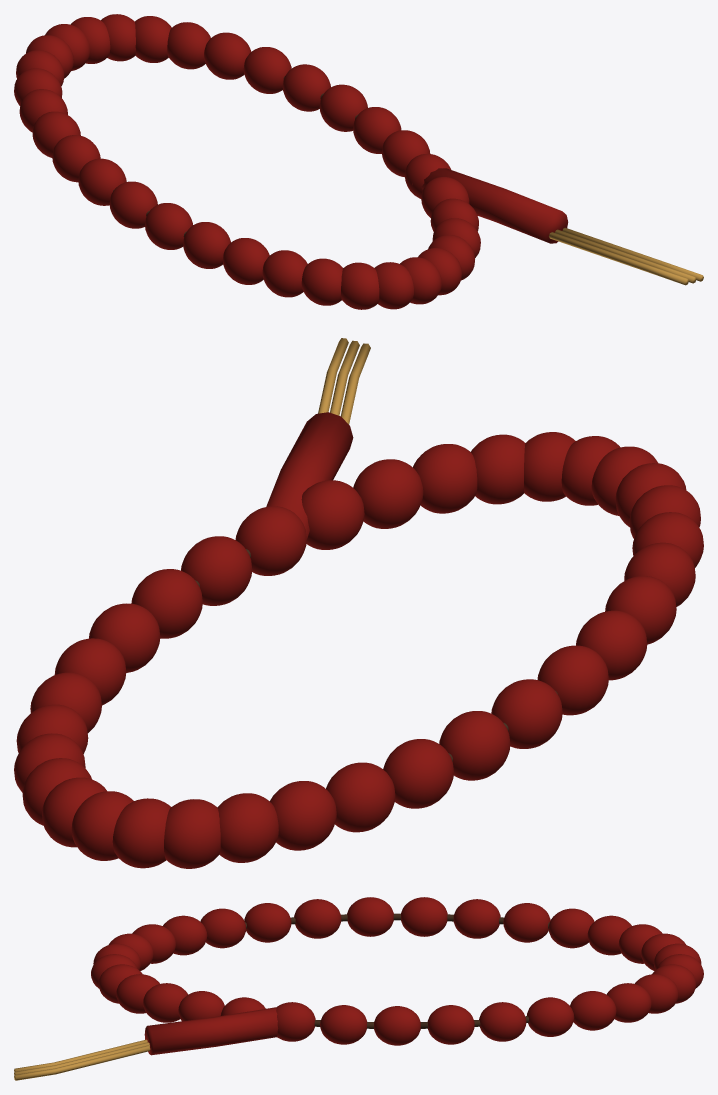
Rendered from cherry_tespih.glb.
3 views of the same model, one above another, from view 1: azimuth 30°, elevation 25°; view 2: azimuth 150°, elevation 25°; view 3: azimuth 270°, elevation 25° (orthographic). The views are drawn at different scales.
Visible parts, largest first — view 1: Imame, AmberBead_30, AmberBead_14, AmberBead_15, AmberBead_29, AmberBead_31, AmberBead_13, AmberBead_16, AmberBead_12, AmberBead_32, AmberBead_11, AmberBead_28 (+25 smaller); view 2: Imame, AmberBead_19, AmberBead_4, AmberBead_18, AmberBead_20, AmberBead_2, AmberBead_17, AmberBead_21, AmberBead_1, AmberBead_22, AmberBead_5, AmberBead_16 (+24 smaller); view 3: Imame, AmberBead_0, AmberBead_32, AmberBead_1, AmberBead_18, AmberBead_15, AmberBead_31, AmberBead_16, AmberBead_17, AmberBead_14, AmberBead_30, AmberBead_19 (+26 smaller).
Part boxes in pixels (x1,y1,x2,y2): Imame: (412, 168, 568, 243); AmberBead_30: (243, 47, 291, 93); AmberBead_14: (183, 222, 230, 268); AmberBead_15: (145, 203, 192, 249); AmberBead_29: (204, 32, 251, 79); AmberBead_31: (282, 64, 330, 111); AmberBead_13: (222, 238, 269, 284); AmberBead_16: (109, 181, 157, 228); AmberBead_12: (262, 250, 307, 297); AmberBead_32: (319, 84, 367, 131); AmberBead_11: (301, 258, 342, 305); AmberBead_28: (167, 22, 210, 69); Imame: (266, 412, 353, 546); AmberBead_19: (383, 739, 453, 808); AmberBead_4: (353, 459, 423, 528); AmberBead_18: (439, 711, 510, 780); AmberBead_20: (326, 762, 395, 832); AmberBead_2: (235, 506, 306, 575); AmberBead_17: (491, 679, 562, 748); AmberBead_21: (269, 781, 336, 850); AmberBead_1: (181, 536, 252, 605); AmberBead_22: (217, 793, 278, 862); AmberBead_5: (413, 444, 477, 513); AmberBead_16: (537, 645, 608, 715); Imame: (144, 1007, 278, 1055); AmberBead_0: (374, 1006, 420, 1045); AmberBead_32: (427, 1005, 474, 1044); AmberBead_1: (320, 1005, 367, 1044); AmberBead_18: (453, 899, 500, 938); AmberBead_15: (294, 899, 341, 938); AmberBead_31: (479, 1002, 526, 1041); AmberBead_16: (347, 897, 393, 936); AmberBead_17: (401, 897, 447, 936); AmberBead_14: (244, 903, 291, 942); AmberBead_30: (527, 997, 574, 1036); AmberBead_19: (503, 903, 550, 942).
Bounding box in the file's own units: 0.0769 × 0.008 × 0.1389.
